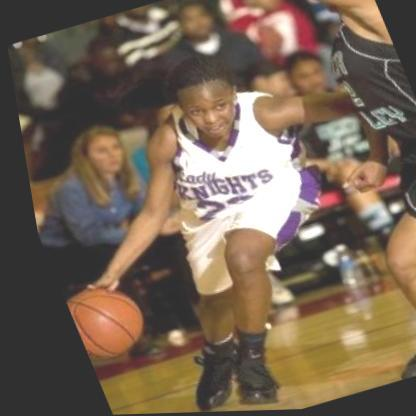basketball: (50, 272, 151, 369)
